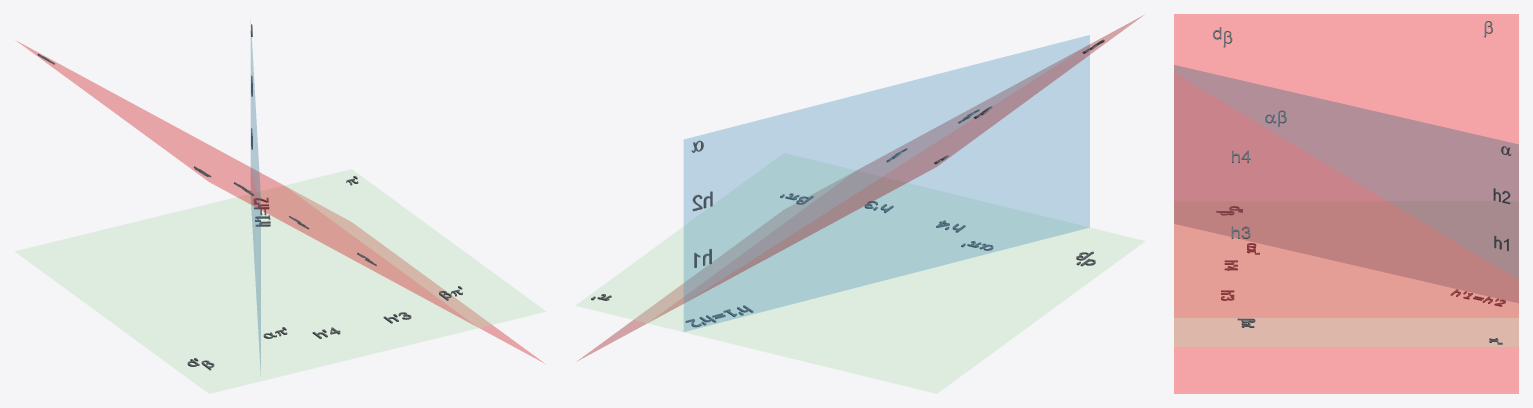
Rendered from int_pq_pv.glb.
3 views of the same model, side by side, from view 1: azimuth 30°, elevation 25°; view 2: azimuth 150°, elevation 25°; view 3: azimuth 270°, elevation 25° (orthographic). The views are drawn at different scales.
Visible parts, largest first — view 1: 3DGeom-1, 3DGeom-3, 3DGeom-2; view 2: 3DGeom-2, 3DGeom-1, 3DGeom-3; view 3: 3DGeom-3, 3DGeom-2, 3DGeom-1.
Boxes of the visible parts, left/top/right/bottom form: 3DGeom-1: left=15, top=169, right=545, bottom=393; 3DGeom-3: left=17, top=41, right=543, bottom=362; 3DGeom-2: left=251, top=30, right=260, bottom=370; 3DGeom-2: left=684, top=35, right=1089, bottom=331; 3DGeom-1: left=576, top=153, right=1144, bottom=393; 3DGeom-3: left=578, top=15, right=1143, bottom=360; 3DGeom-3: left=1174, top=14, right=1518, bottom=393; 3DGeom-2: left=1174, top=65, right=1518, bottom=302; 3DGeom-1: left=1174, top=224, right=1518, bottom=346.
Size of the model in its own units: 2.54 by 1.9 by 2.54.
